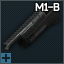AK UltiMAK M1-B gas tube & handguard: (0, 0, 64, 64)
